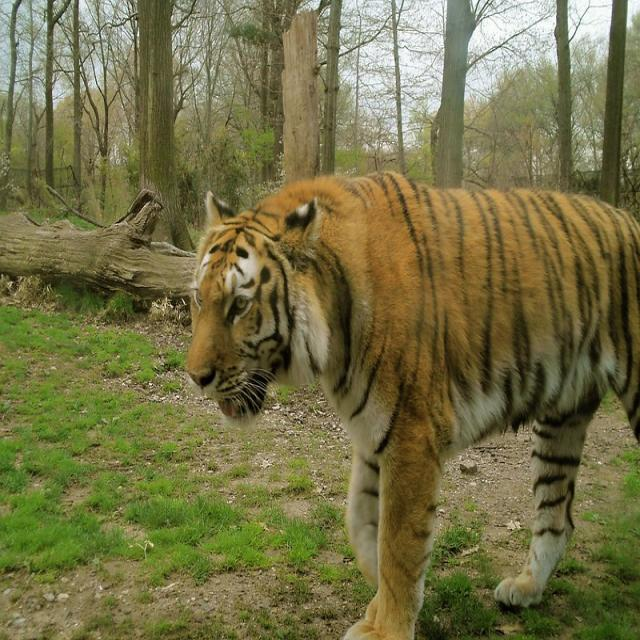Tiger: (182, 165, 636, 639)
